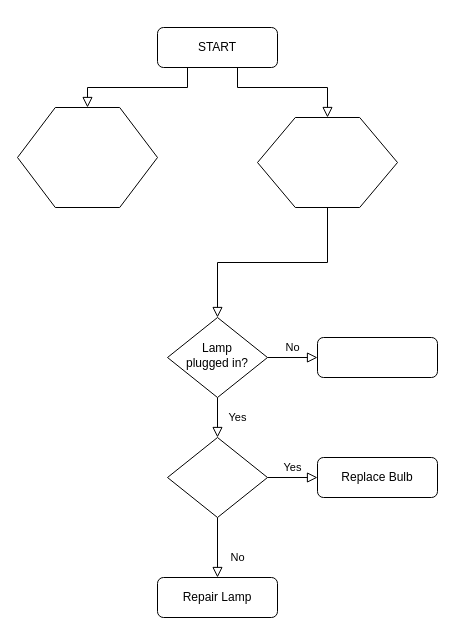
This 455x635 diagram has some shape labels left out. The shapes that lost their labels are listed below. From the top down, each one's centre as x and y in pixels, then its label:
At pixel 87 157: "int birth(int b) char* exfeb(int y) char* gender(int g) char* foreigner(int f)".
At pixel 377 357: "Plug in lamp".
At pixel 217 477: "Bulb burned out?".
